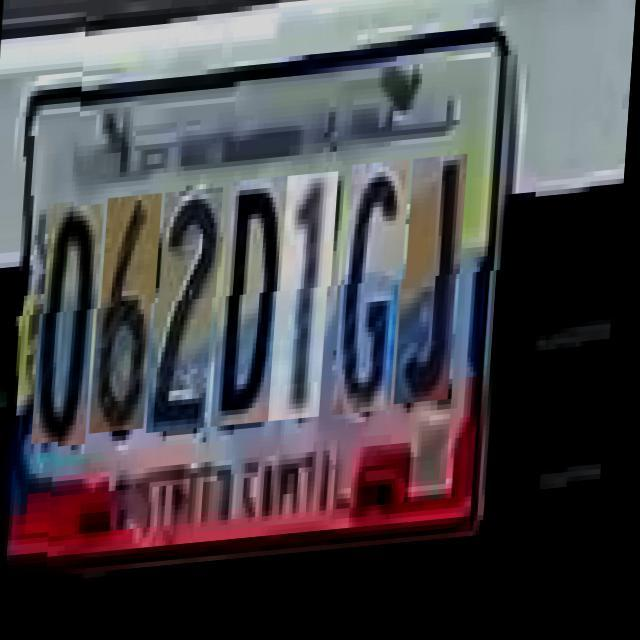1: (278, 178, 342, 427)
2: (156, 192, 226, 436)
6: (99, 197, 165, 436)
D: (220, 182, 290, 432)
G: (342, 168, 413, 422)
J: (404, 164, 471, 412)
O: (41, 206, 108, 450)
